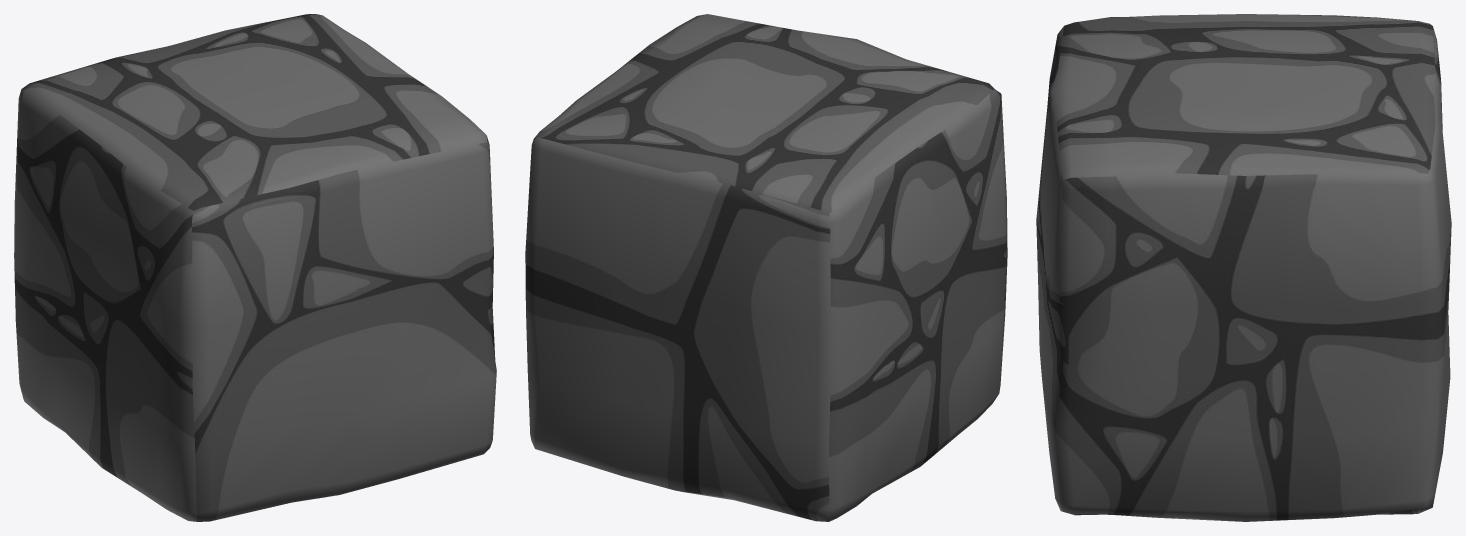
The model's file is stone_tile.fbx.
3 views of the same model, side by side, from view 1: azimuth 30°, elevation 25°; view 2: azimuth 150°, elevation 25°; view 3: azimuth 270°, elevation 25° (orthographic). The views are drawn at different scales.
Visible parts, largest first — view 1: model_0.002; view 2: model_0.002; view 3: model_0.002.
Part boxes in pixels (box(x1,y1,x2,y2)): model_0.002: box(14, 14, 496, 521); model_0.002: box(525, 14, 1007, 521); model_0.002: box(1036, 14, 1451, 521).
Bounding box in the file's own units: 1781 × 1784 × 1794.
Materials: 1 (1 with a texture image).
